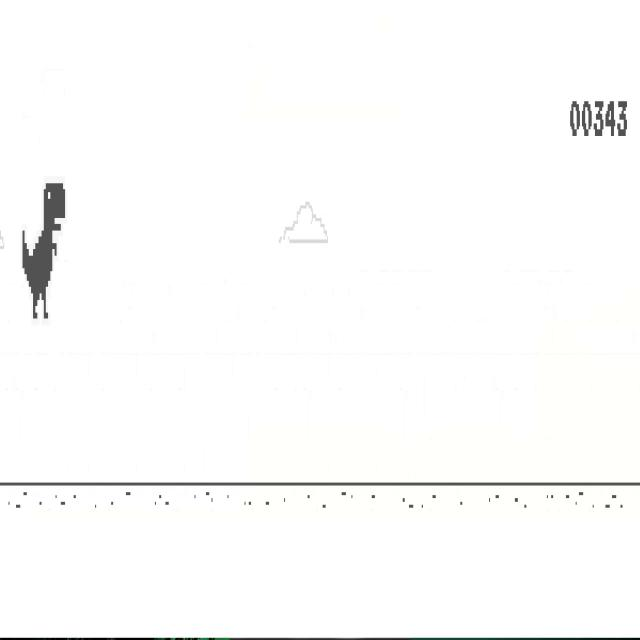dino: (23, 183, 66, 320)
